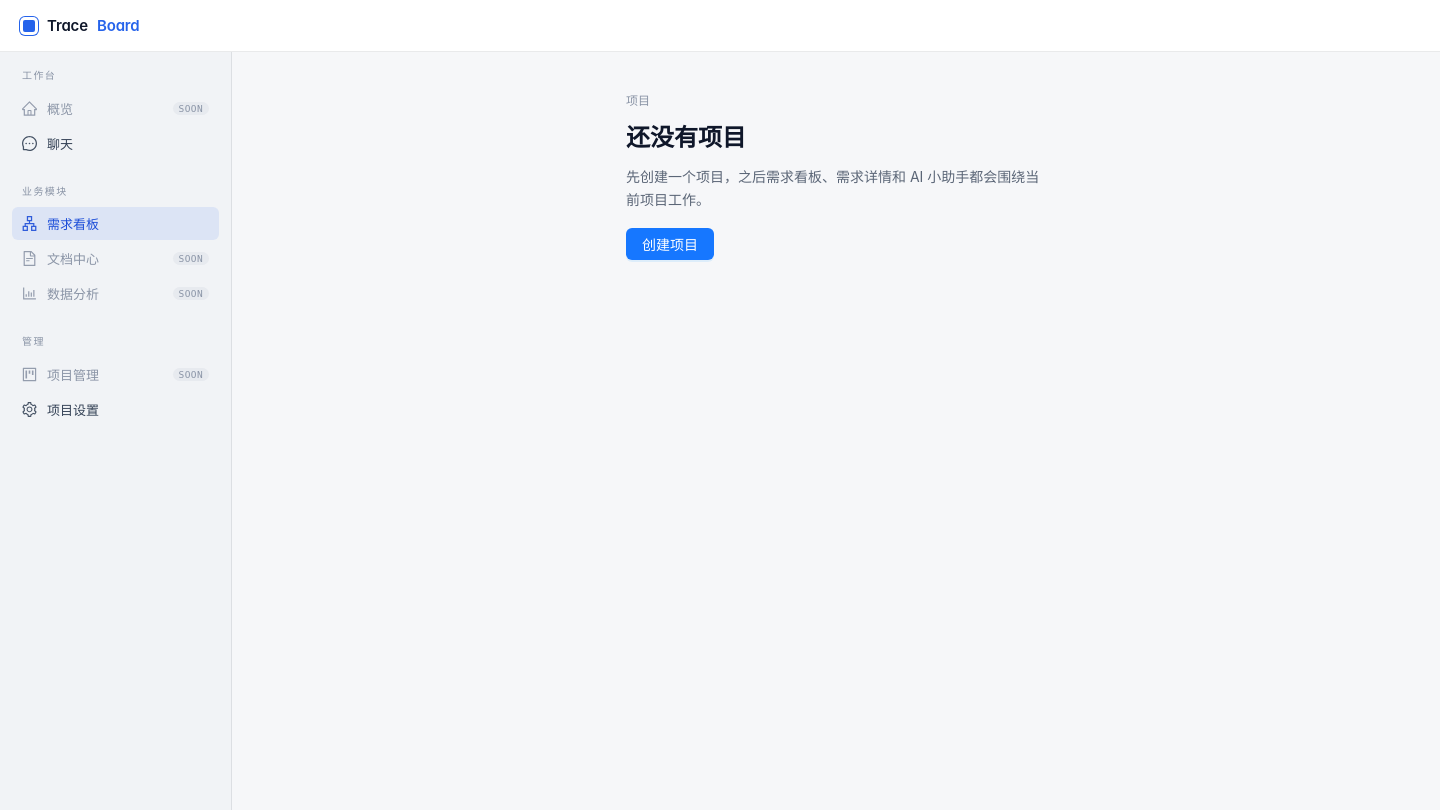
Test: AppShell › 首次无项目时展示创建项目空状态
Check: the heading "还没有项目" is shown, box top-left (626, 123), bottom-right (746, 153)
Check: the text "先创建一个项目，之后需求看板、需求详情和 AI 小助手都会围绕当前项目工作。" is shown, box top-left (626, 165), bottom-right (1046, 212)
Click the button "创建项目" at (670, 244), box top-left (626, 228), bottom-right (714, 260)
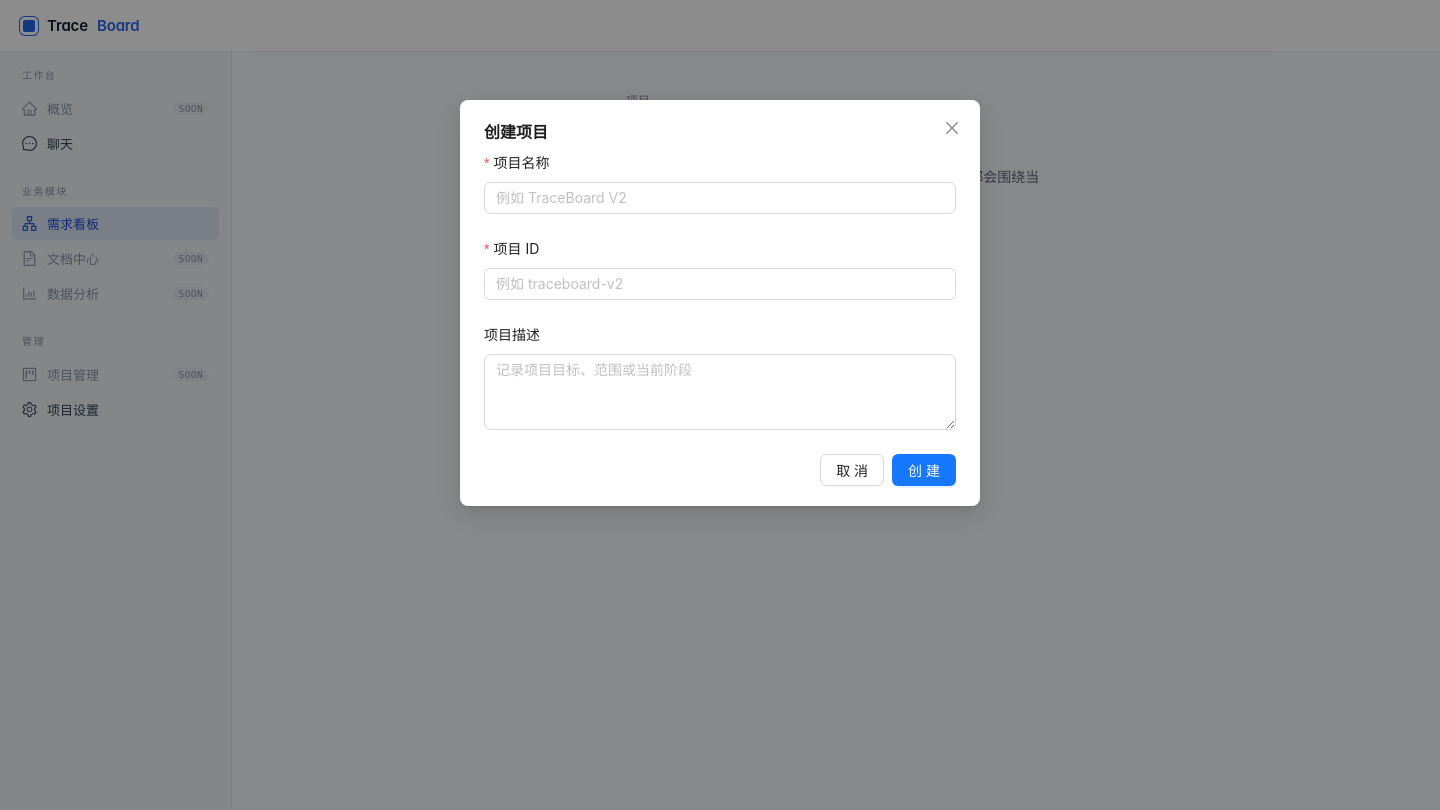
Check: the dialog "创建项目" is shown, box top-left (460, 100), bottom-right (980, 530)
Check: the field labelled "项目名称" is shown, box top-left (484, 182), bottom-right (956, 214)
